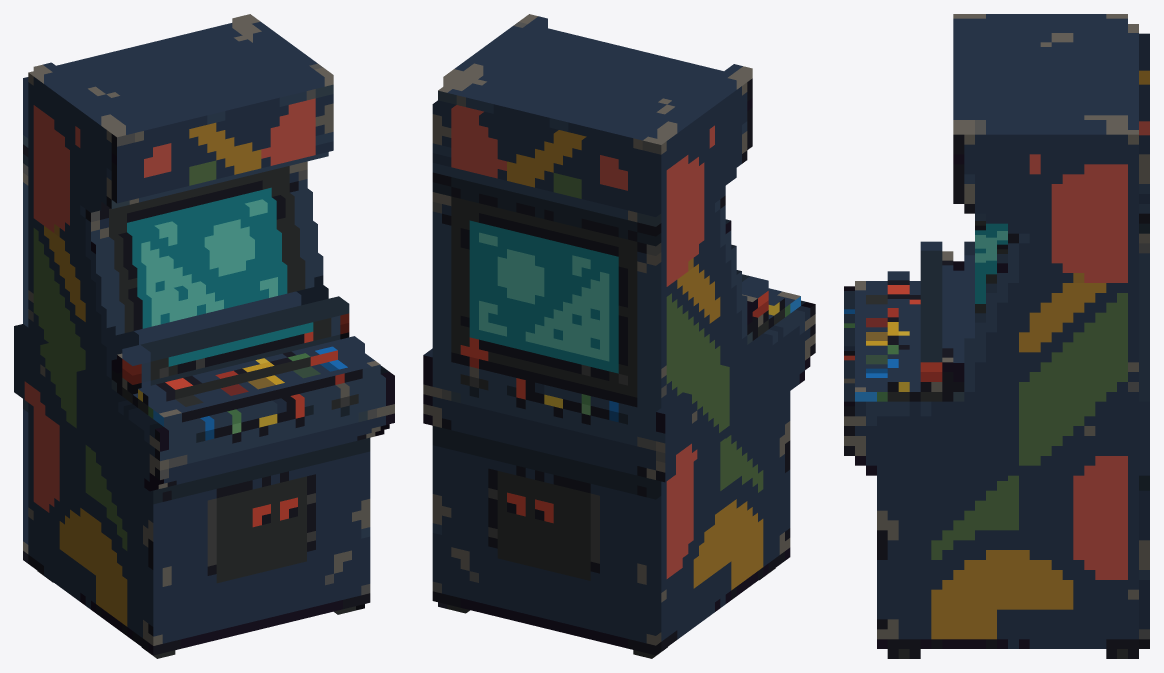
Rendered from city_arcade_cabinet.glb.
3 views of the same model, side by side, from view 1: azimuth 30°, elevation 25°; view 2: azimuth 150°, elevation 25°; view 3: azimuth 270°, elevation 25° (orthographic). The views are drawn at different scales.
Visible parts, largest first — view 1: city_arcade_cabinet; view 2: city_arcade_cabinet; view 3: city_arcade_cabinet.
Boxes of the visible parts, box(x1,y1,x2,y2) form: city_arcade_cabinet: box(14, 14, 394, 658); city_arcade_cabinet: box(423, 14, 815, 658); city_arcade_cabinet: box(844, 14, 1149, 658).
Size of the model in its own units: 0.8125 by 1.69 by 0.875.
